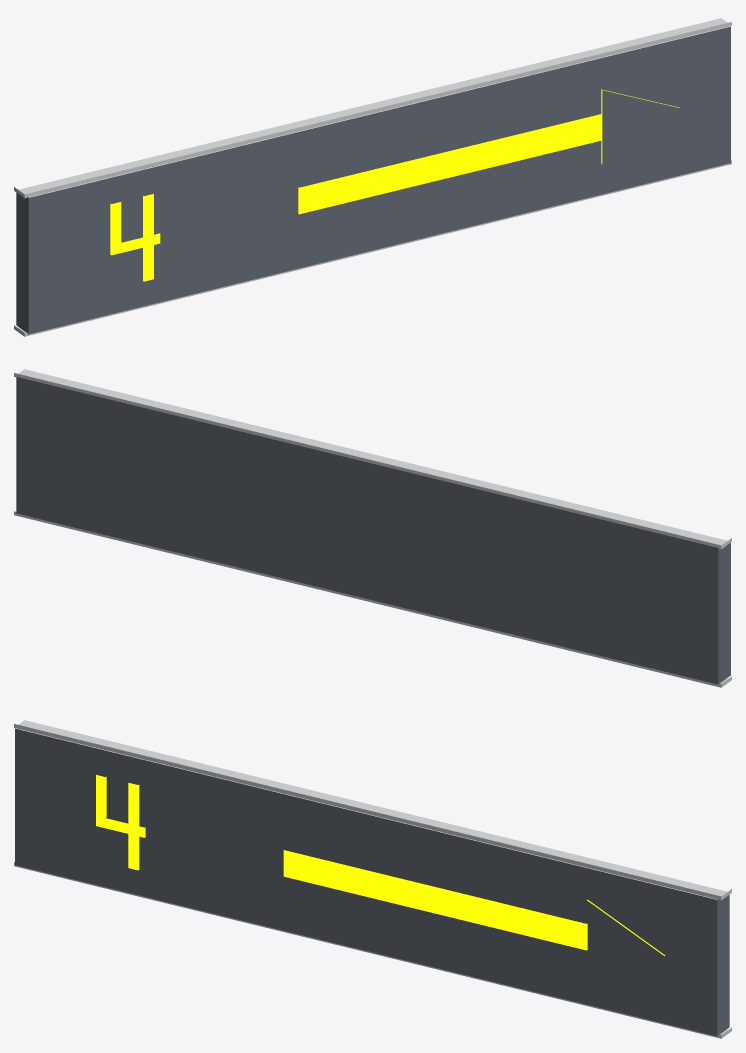
The model's file is ext_sector4_sign_01.glb.
The picture shows the model from 3 angles, top to bottom: view 1: azimuth 30°, elevation 25°; view 2: azimuth 150°, elevation 25°; view 3: azimuth 330°, elevation 25°; orthographic projection.
Visible parts, largest first — view 1: Panel, Trim, Chevrons, Glyph_4; view 2: Panel, Trim; view 3: Panel, Trim, Chevrons, Glyph_4.
Boxes of the visible parts, <box> form: Panel: <box>16,26,730,334</box>; Trim: <box>14,18,731,336</box>; Chevrons: <box>298,89,679,214</box>; Glyph_4: <box>110,194,160,281</box>; Panel: <box>16,377,730,684</box>; Trim: <box>14,369,731,687</box>; Panel: <box>15,728,729,1036</box>; Trim: <box>14,720,731,1038</box>; Chevrons: <box>283,850,664,955</box>; Glyph_4: <box>96,775,145,870</box>.
Bounding box in the file's own units: 2.6 × 0.5 × 0.086.
